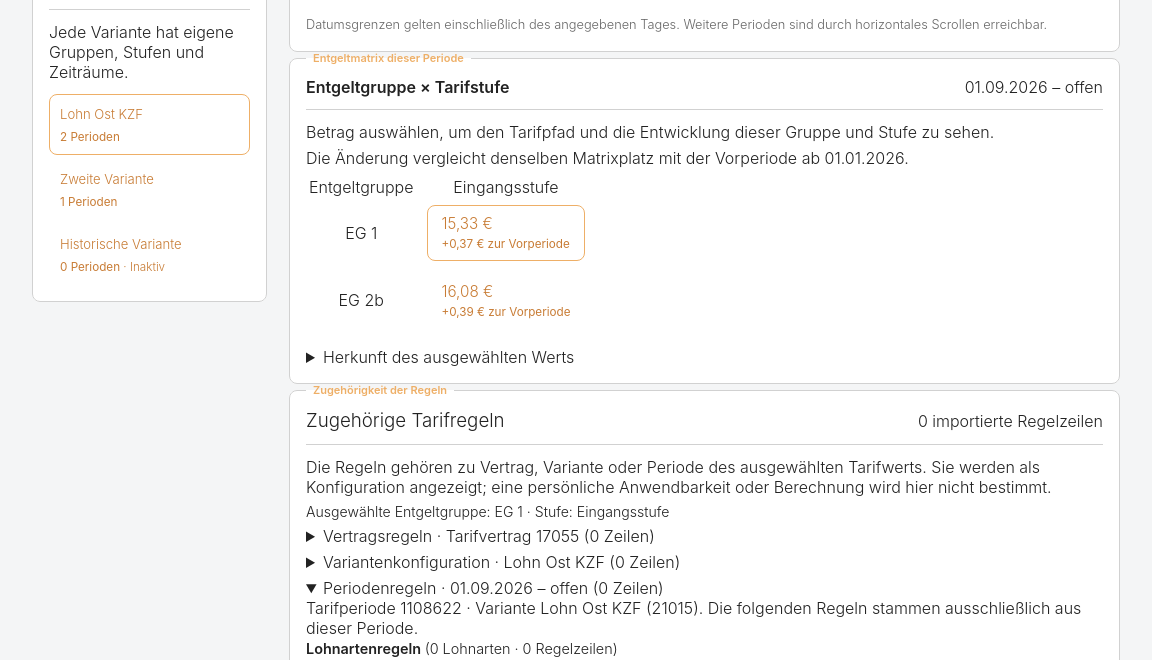
Tarifbeziehungen in der Übersicht › behält Matrixpositionen beim Variantenwechsel und zeigt nur die zugehörigen Perioden und Werte
(page scrolled)
Click the button "16,08 € +0,39 € zur Vorperiode" at (506, 300), box x1=426 y1=272 x2=585 y2=328
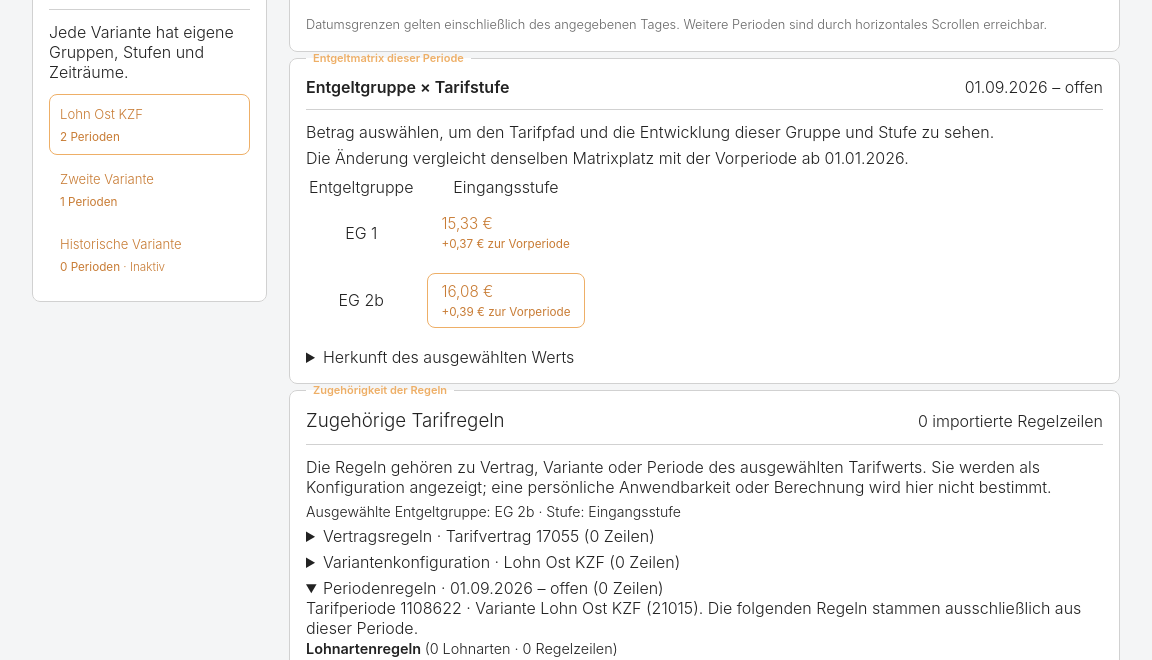
Click the button "Zweite Variante 1 Perioden" at (150, 190), box x1=49 y1=159 x2=250 y2=220
(page scrolled)
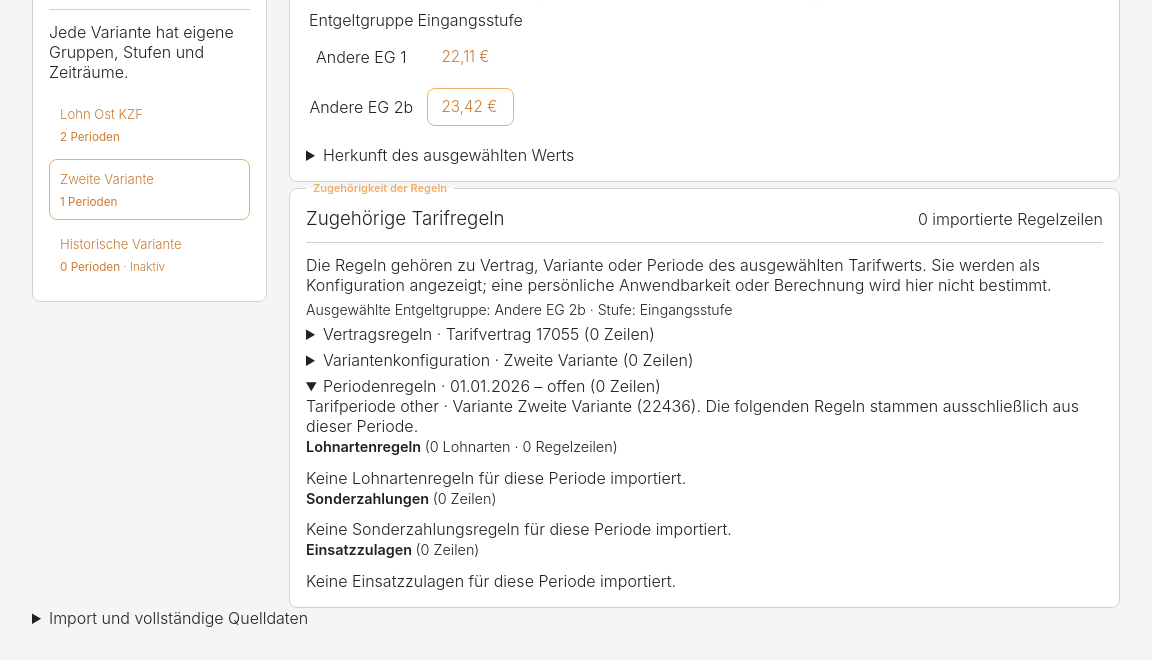
Now the element that starts with "Periodenregeln · 01.01.2026 – offen" shows "Tarifperiode other", box x1=306 y1=396 x2=1079 y2=436
